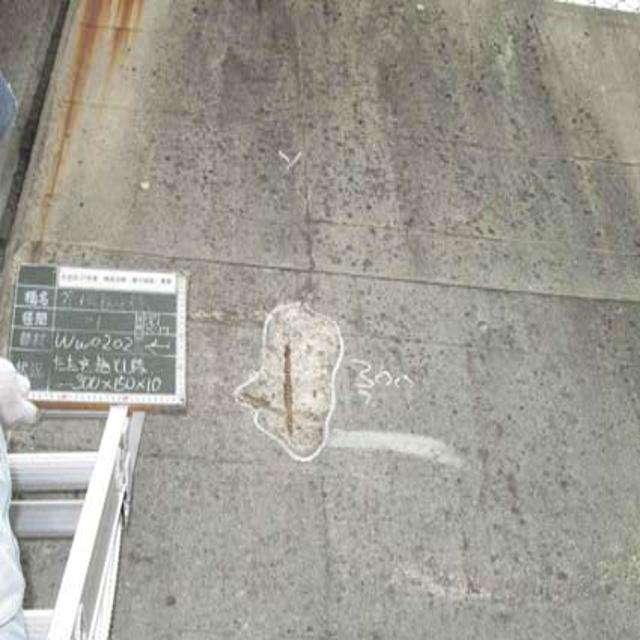spalling: (240, 300, 347, 457)
